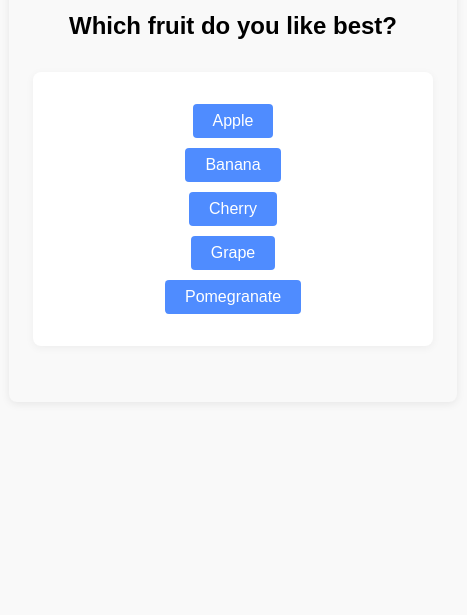
Test case: SurveyPage › Prediction section is shown after selecting a fruit
# Click the first fruit button (apple)
Click the button "Apple" at (233, 121), box [192,104,273,138]
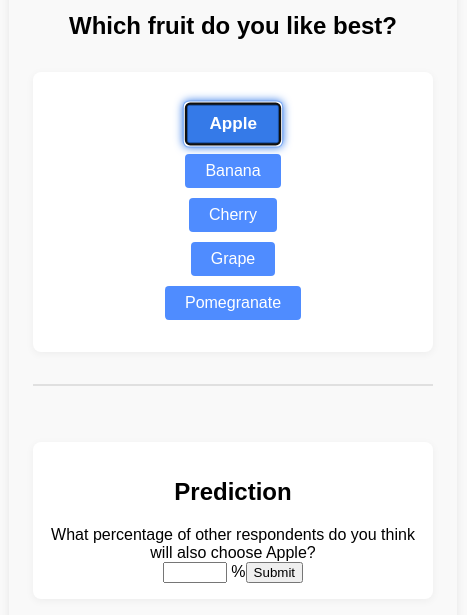
Result: the element that starts with "Prediction" is shown at [33,442,433,599]
